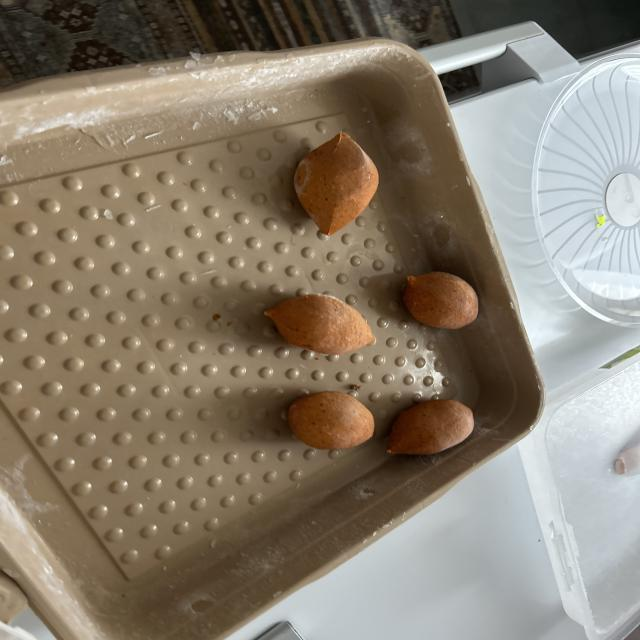kobi: (292, 130, 380, 236), (255, 294, 382, 356), (399, 267, 482, 334), (391, 401, 482, 455), (284, 395, 376, 448)
